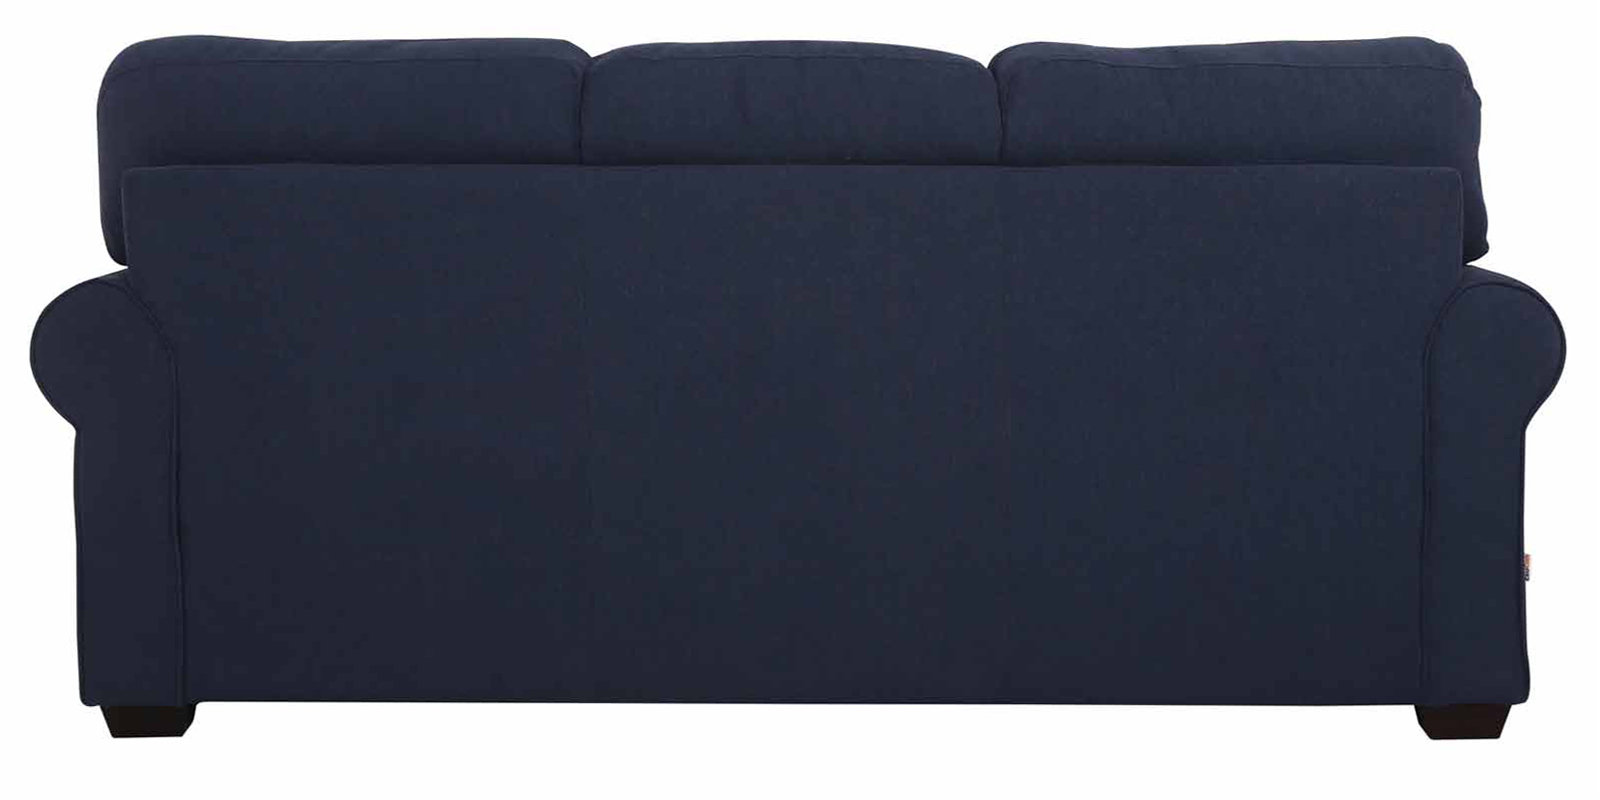Madeira Three Seater Sofa in Navy Blue Colour by CasaCraft: (31, 34, 1566, 741)
